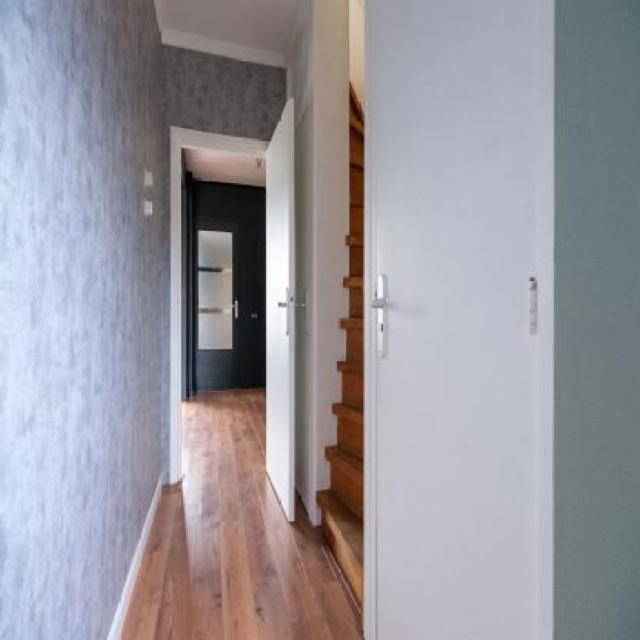floor: (118, 390, 367, 640)
